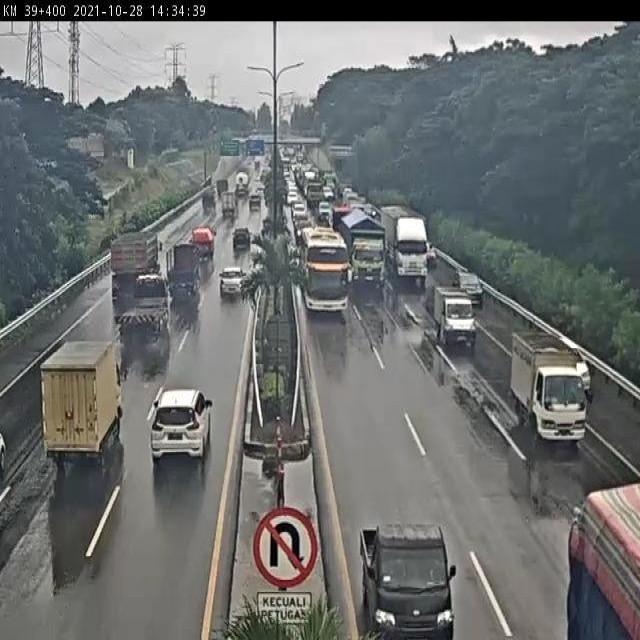big bus: (298, 224, 352, 312)
big truck: (338, 205, 386, 288), (380, 204, 429, 284), (113, 274, 173, 338), (105, 231, 161, 297)
car: (352, 488, 443, 615), (148, 387, 214, 465), (429, 279, 473, 345), (445, 263, 479, 300), (217, 264, 248, 300), (229, 227, 252, 254)
small truck: (42, 340, 127, 467), (513, 334, 589, 449), (162, 243, 203, 300), (187, 226, 217, 262)
